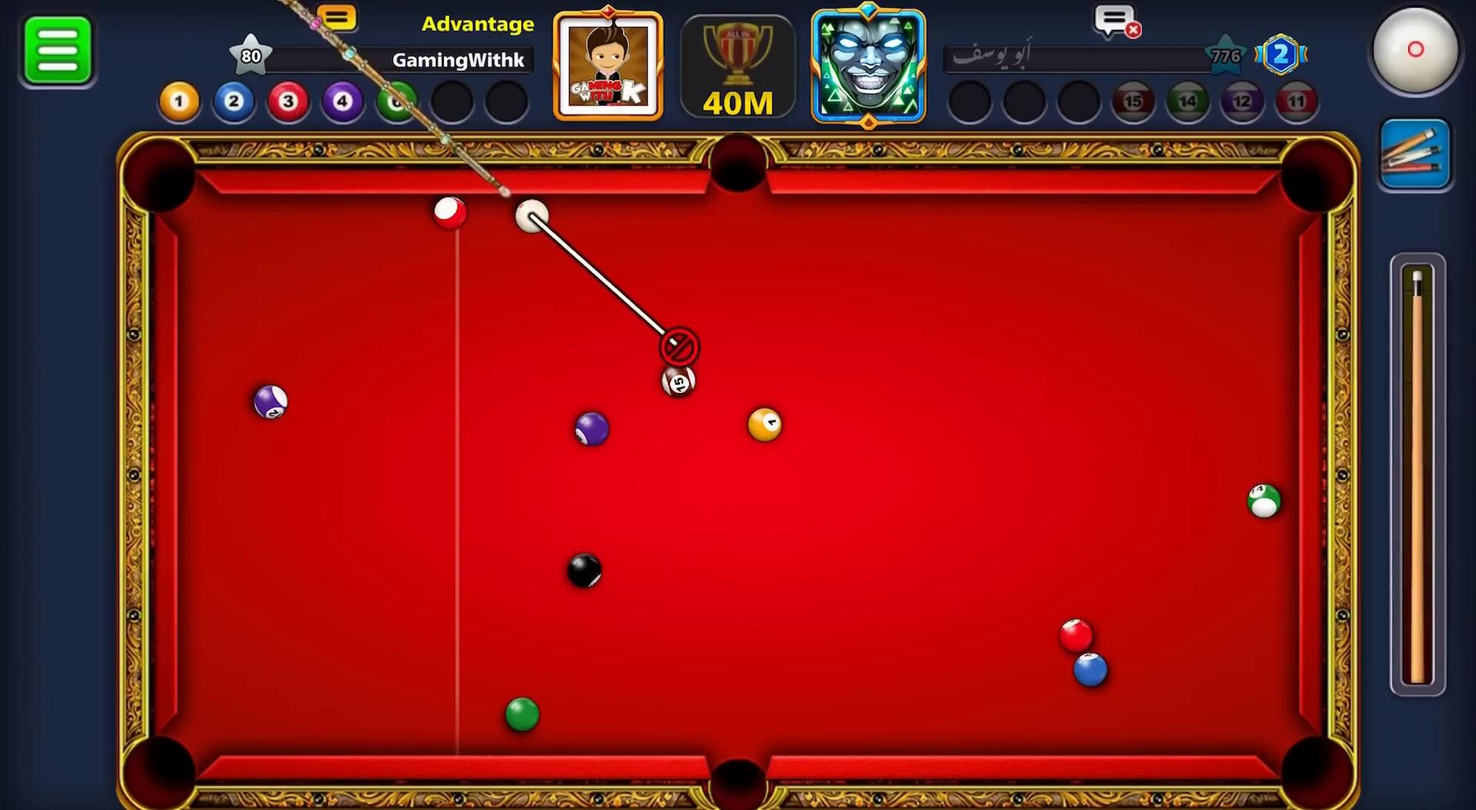Ball: (245, 375, 295, 426), (556, 547, 611, 593), (566, 407, 614, 452), (501, 692, 545, 738), (422, 190, 470, 231), (1053, 614, 1101, 652), (745, 401, 786, 445), (656, 361, 698, 402), (1071, 648, 1111, 689), (1247, 479, 1284, 522)
Force: (1391, 254, 1448, 705)
Guideline: (523, 205, 698, 368), (659, 325, 699, 368)
Hole: (101, 121, 219, 235), (1255, 719, 1373, 809), (1266, 122, 1364, 228), (695, 125, 779, 215), (689, 739, 785, 809), (122, 733, 199, 808)
Play_Area: (177, 191, 1293, 757)
Spin: (1363, 0, 1475, 106)
White: (507, 194, 554, 235)
